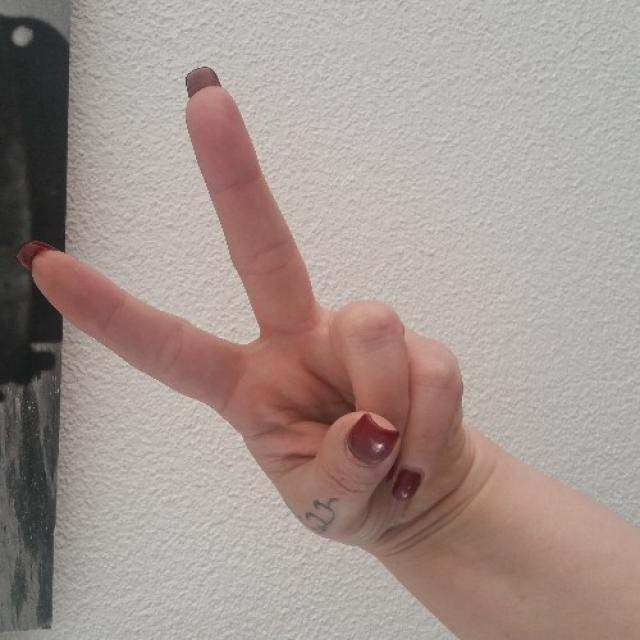scissors: (19, 63, 442, 538)
